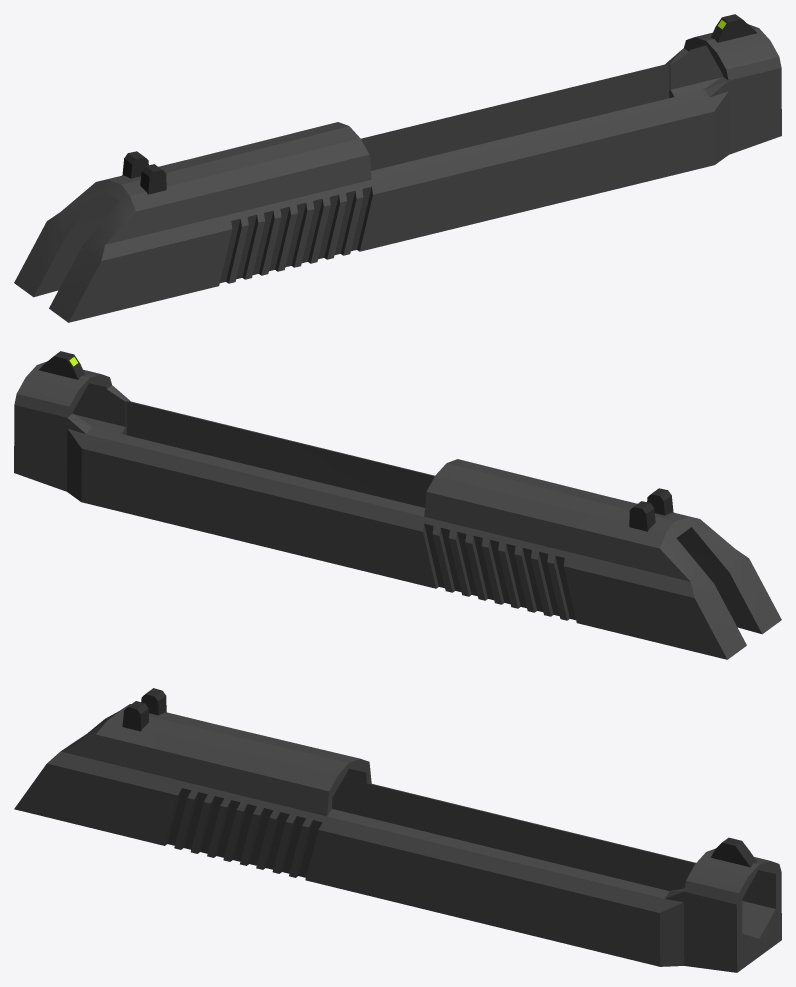
Rendered from Pistol1_02_2.fbx.
3 renders of one model, top to bottom at view 1: azimuth 30°, elevation 25°; view 2: azimuth 150°, elevation 25°; view 3: azimuth 330°, elevation 25°, orthographic.
Parts seen in each view (by area): view 1: Pistol1_02_2; view 2: Pistol1_02_2; view 3: Pistol1_02_2.
Part boxes in pixels (bbox=[...]): Pistol1_02_2: bbox=[14, 14, 781, 322]; Pistol1_02_2: bbox=[14, 351, 781, 659]; Pistol1_02_2: bbox=[14, 688, 781, 972].
Bounding box in the file's own units: 0.2348 × 0.0363 × 0.0308.
